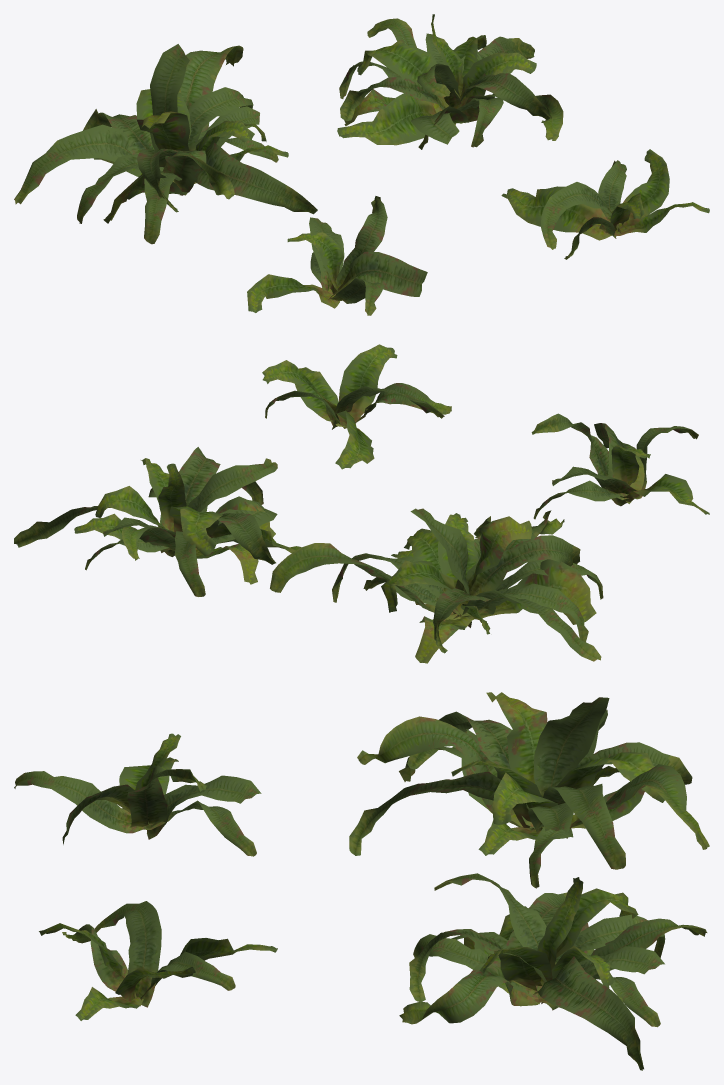
The model's file is ferns.glb.
The picture shows the model from 3 angles, top to bottom: view 1: azimuth 30°, elevation 25°; view 2: azimuth 150°, elevation 25°; view 3: azimuth 270°, elevation 25°; orthographic projection. The views are drawn at different scales.
Visible parts, largest first — view 1: fern_02_b, fern_02_c, fern_02_d, fern_02_a; view 2: fern_02_b, fern_02_c, fern_02_d, fern_02_a; view 3: fern_02_b, fern_02_c, fern_02_a, fern_02_d.
Boxes of the visible parts, left/top/right/bottom form: fern_02_b: left=14, top=44, right=317, bottom=244; fern_02_c: left=337, top=14, right=563, bottom=149; fern_02_d: left=501, top=149, right=709, bottom=259; fern_02_a: left=247, top=196, right=427, bottom=315; fern_02_b: left=270, top=508, right=603, bottom=663; fern_02_c: left=14, top=447, right=300, bottom=596; fern_02_d: left=262, top=344, right=451, bottom=469; fern_02_a: left=531, top=413, right=709, bottom=519; fern_02_b: left=349, top=692, right=709, bottom=888; fern_02_c: left=399, top=873, right=707, bottom=1070; fern_02_a: left=14, top=733, right=261, bottom=856; fern_02_d: left=39, top=901, right=277, bottom=1020.
Bounding box in the file's own units: 1.97 × 0.4277 × 1.72.
Materials: 1 (1 with a texture image).
